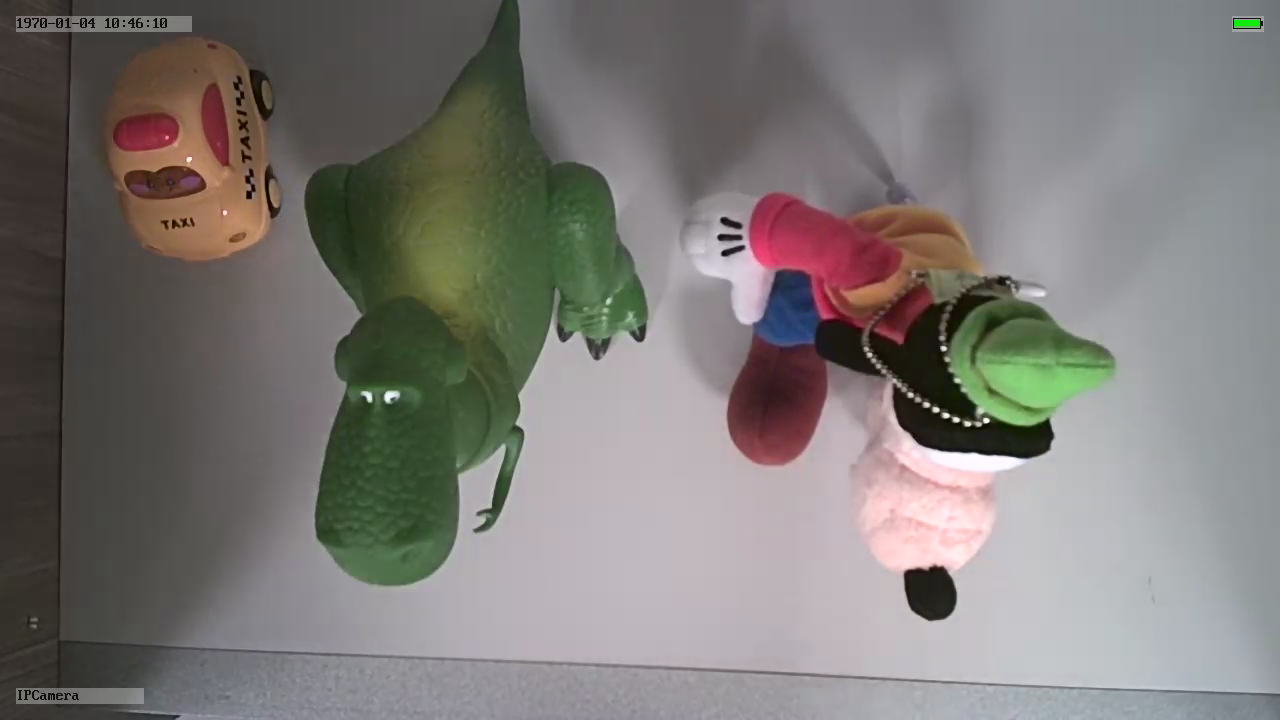goofy: (674, 182, 1119, 631)
